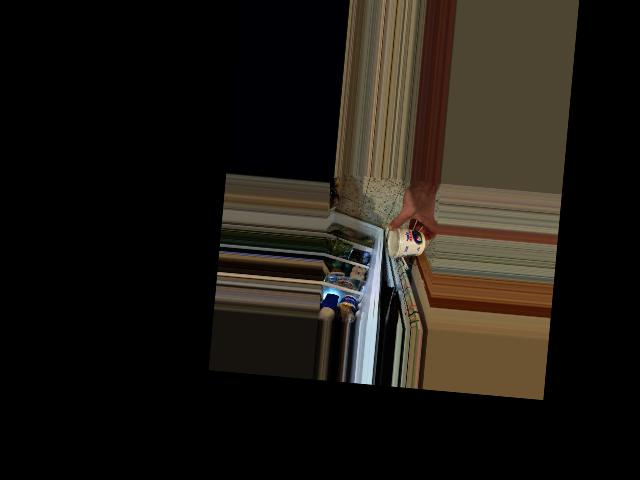cotage: (386, 225, 428, 260)
